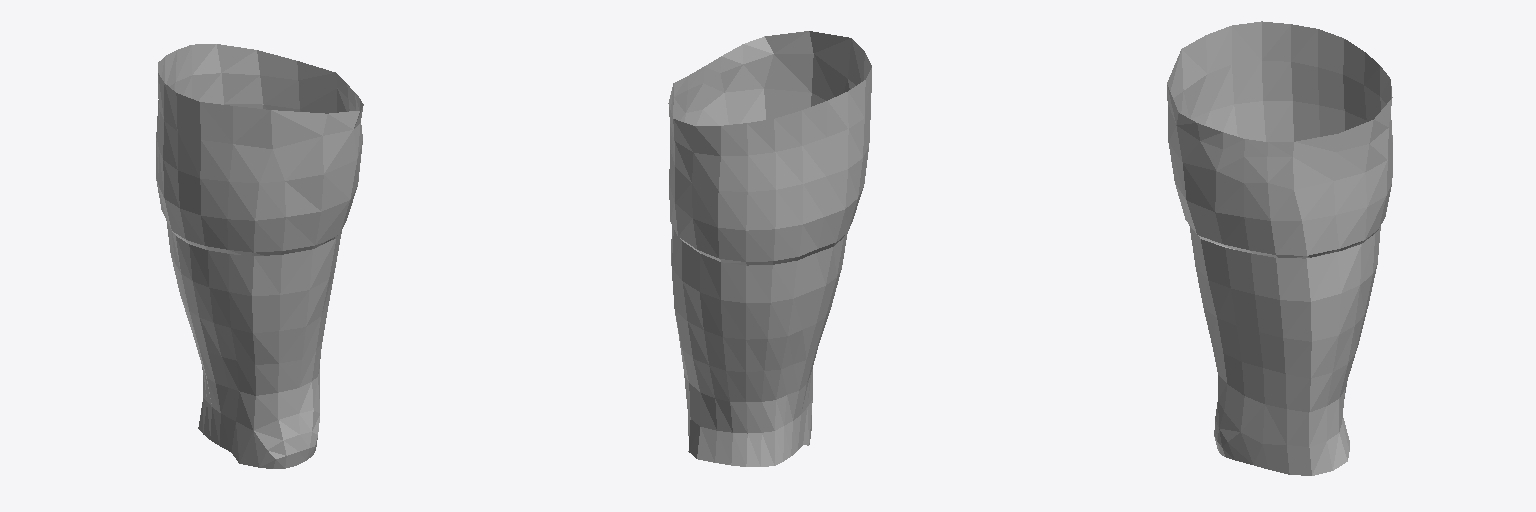
File: Koharu_Pierna_2.obj
3 views of the same model, side by side, from view 1: azimuth 30°, elevation 25°; view 2: azimuth 150°, elevation 25°; view 3: azimuth 270°, elevation 25° (orthographic).
Parts seen in each view (by area): view 1: Pierna_2_Body_큐브.008; view 2: Pierna_2_Body_큐브.008; view 3: Pierna_2_Body_큐브.008.
Part boxes in pixels (bbox=[...]): Pierna_2_Body_큐브.008: bbox=[156, 44, 363, 468]; Pierna_2_Body_큐브.008: bbox=[668, 31, 871, 466]; Pierna_2_Body_큐브.008: bbox=[1167, 21, 1392, 475].
Bounding box in the file's own units: 0.1099 × 0.2272 × 0.1215.